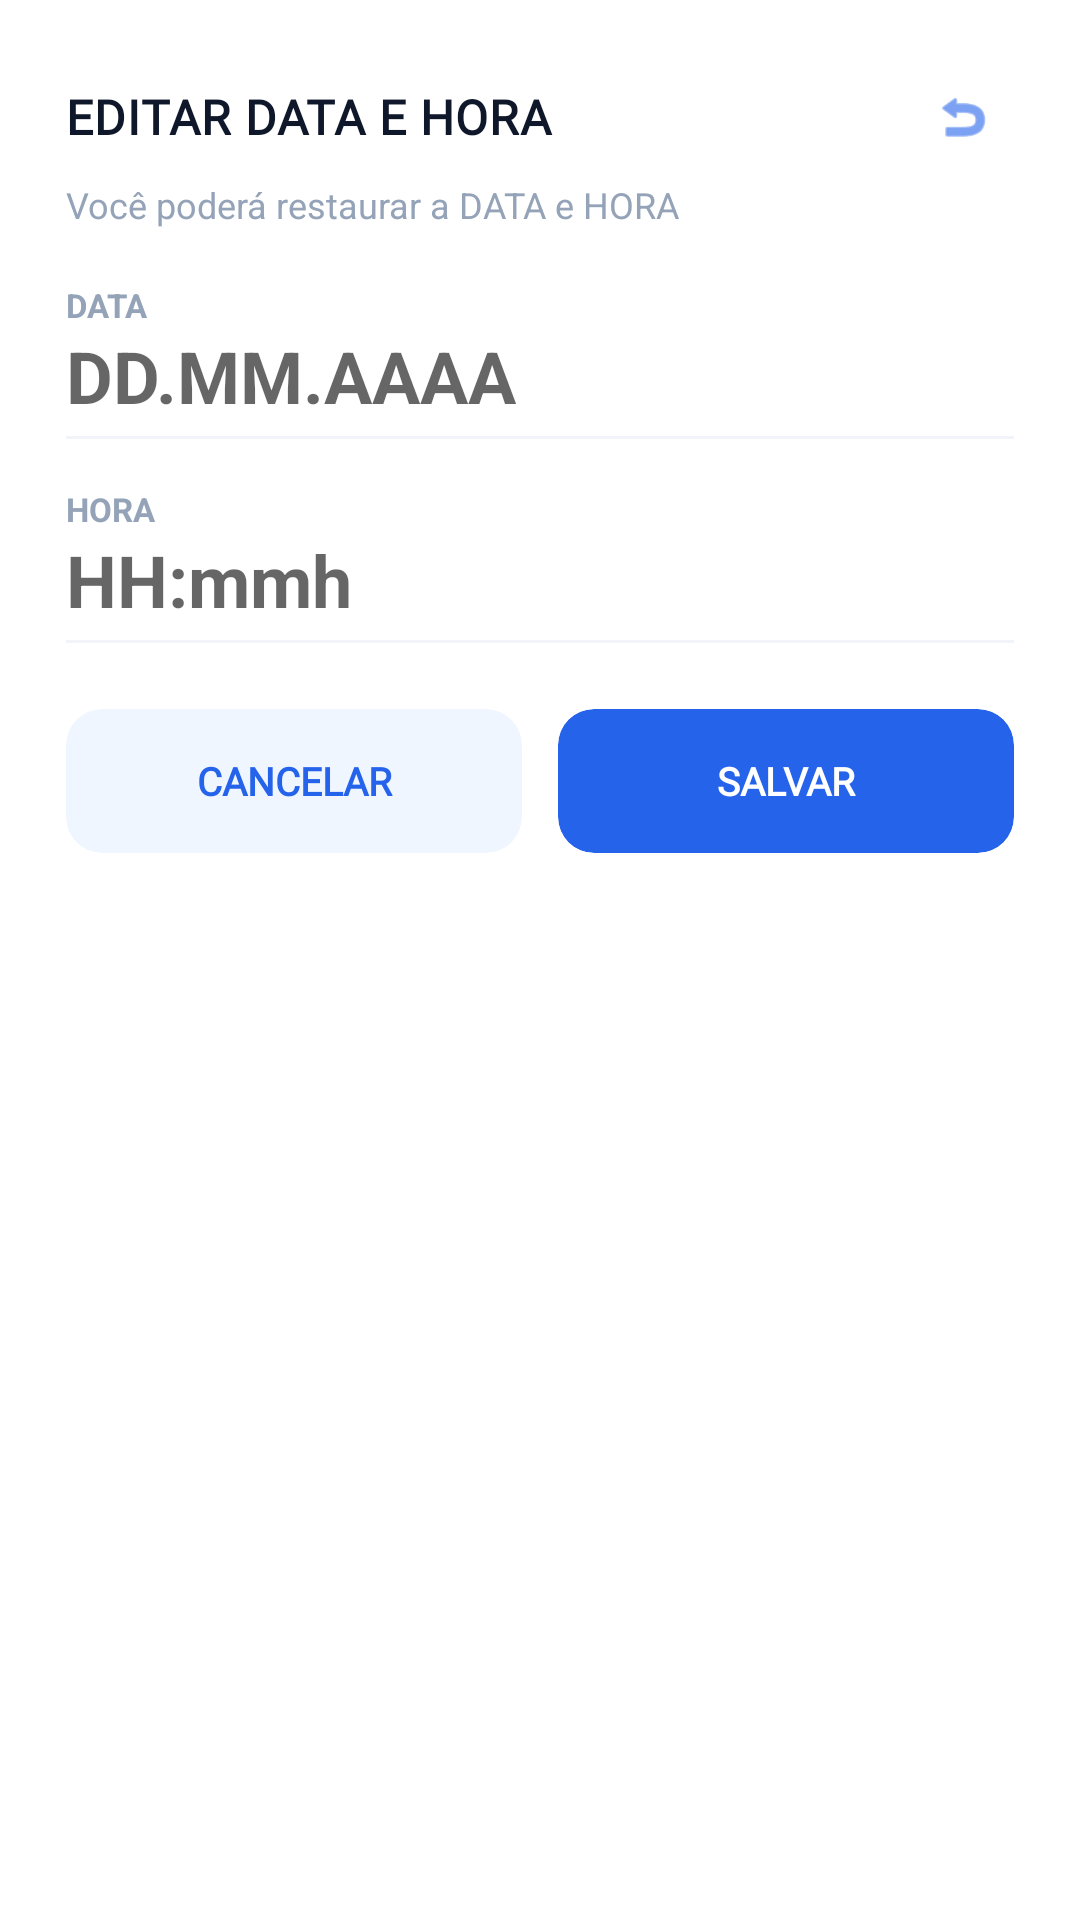

Icons on this 1080w x 1920h Android screen, each with its box as rect(x1, y1, x2, y2):
Restaurar horário original: rect(942, 98, 985, 137)
